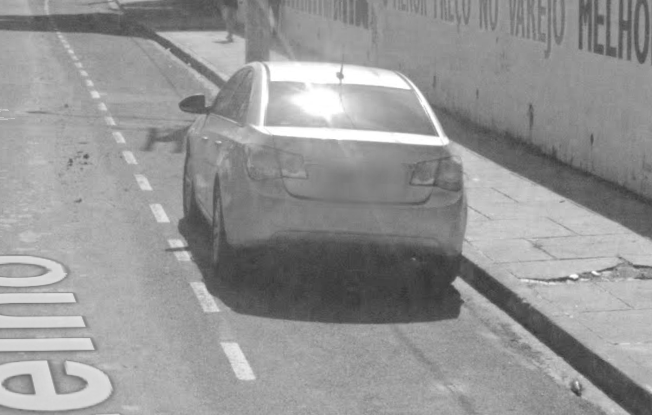car: (171, 45, 472, 298)
